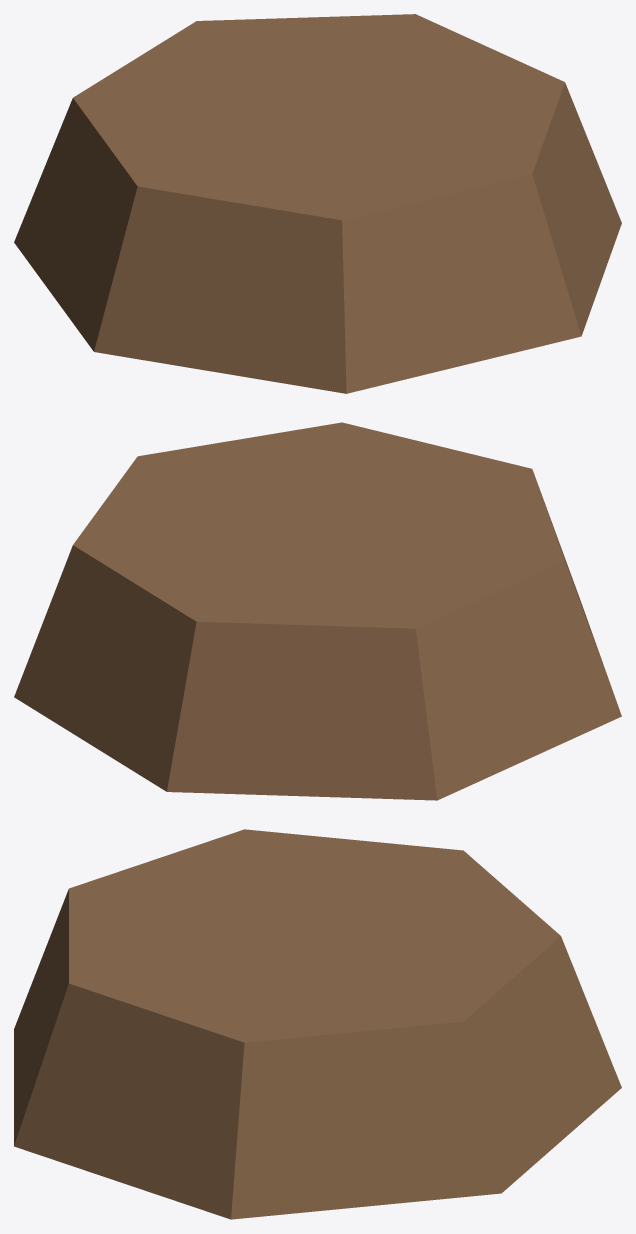
File: t5_tree_stump.glb
3 views of the same model, one above another, from view 1: azimuth 30°, elevation 25°; view 2: azimuth 150°, elevation 25°; view 3: azimuth 270°, elevation 25° (orthographic). The views are drawn at different scales.
Visible parts, largest first — view 1: DepletedStump; view 2: DepletedStump; view 3: DepletedStump.
Part boxes in pixels (left/top/right/bottom): DepletedStump: left=14, top=14, right=621, bottom=393; DepletedStump: left=14, top=422, right=621, bottom=800; DepletedStump: left=14, top=829, right=621, bottom=1219.
Size of the model in its own units: 0.8189 by 0.22 by 0.7984.
